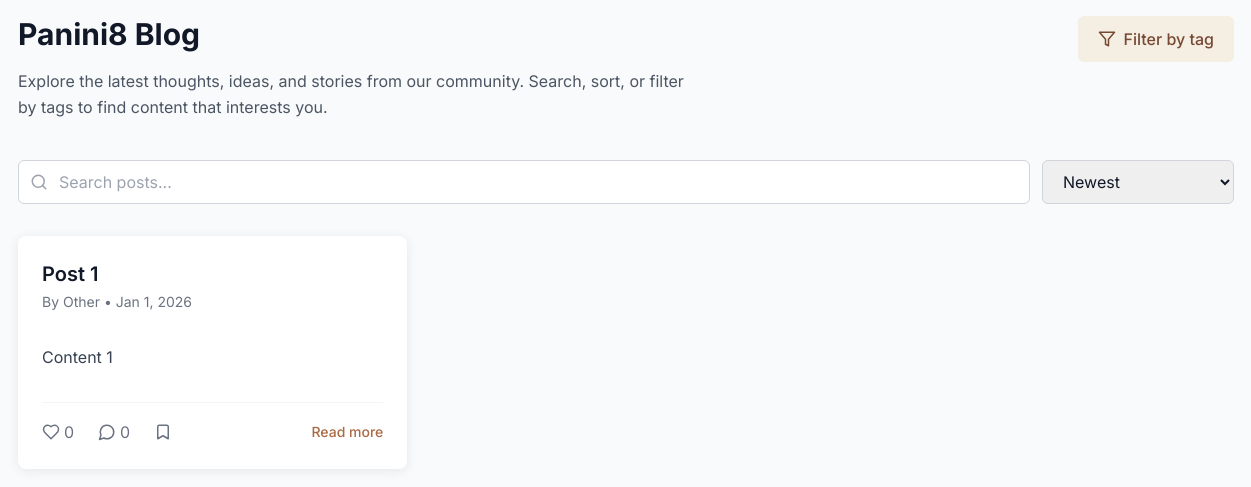
Test case: Home search, sort and retry › debounces search, sends q, and shows a search-specific empty state
Expected: the heading "Post 1" is shown, [42,262,98,286]
Type "docker" into the search field labelled "Search posts" at (524, 182), box [18,160,1030,204]
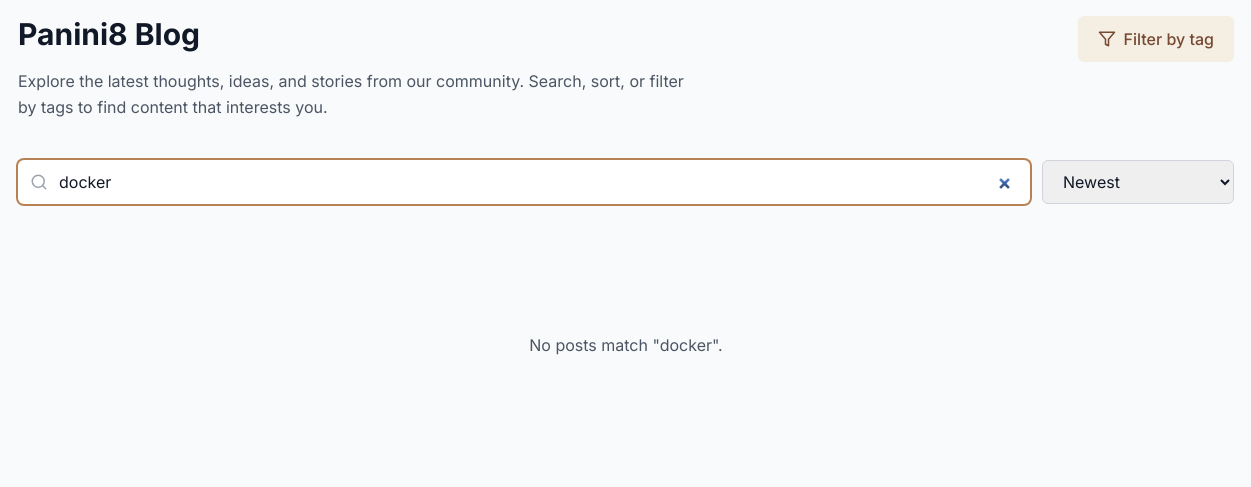
Expected: the text "No posts match \"docker\"." is shown, [529,335,723,355]
